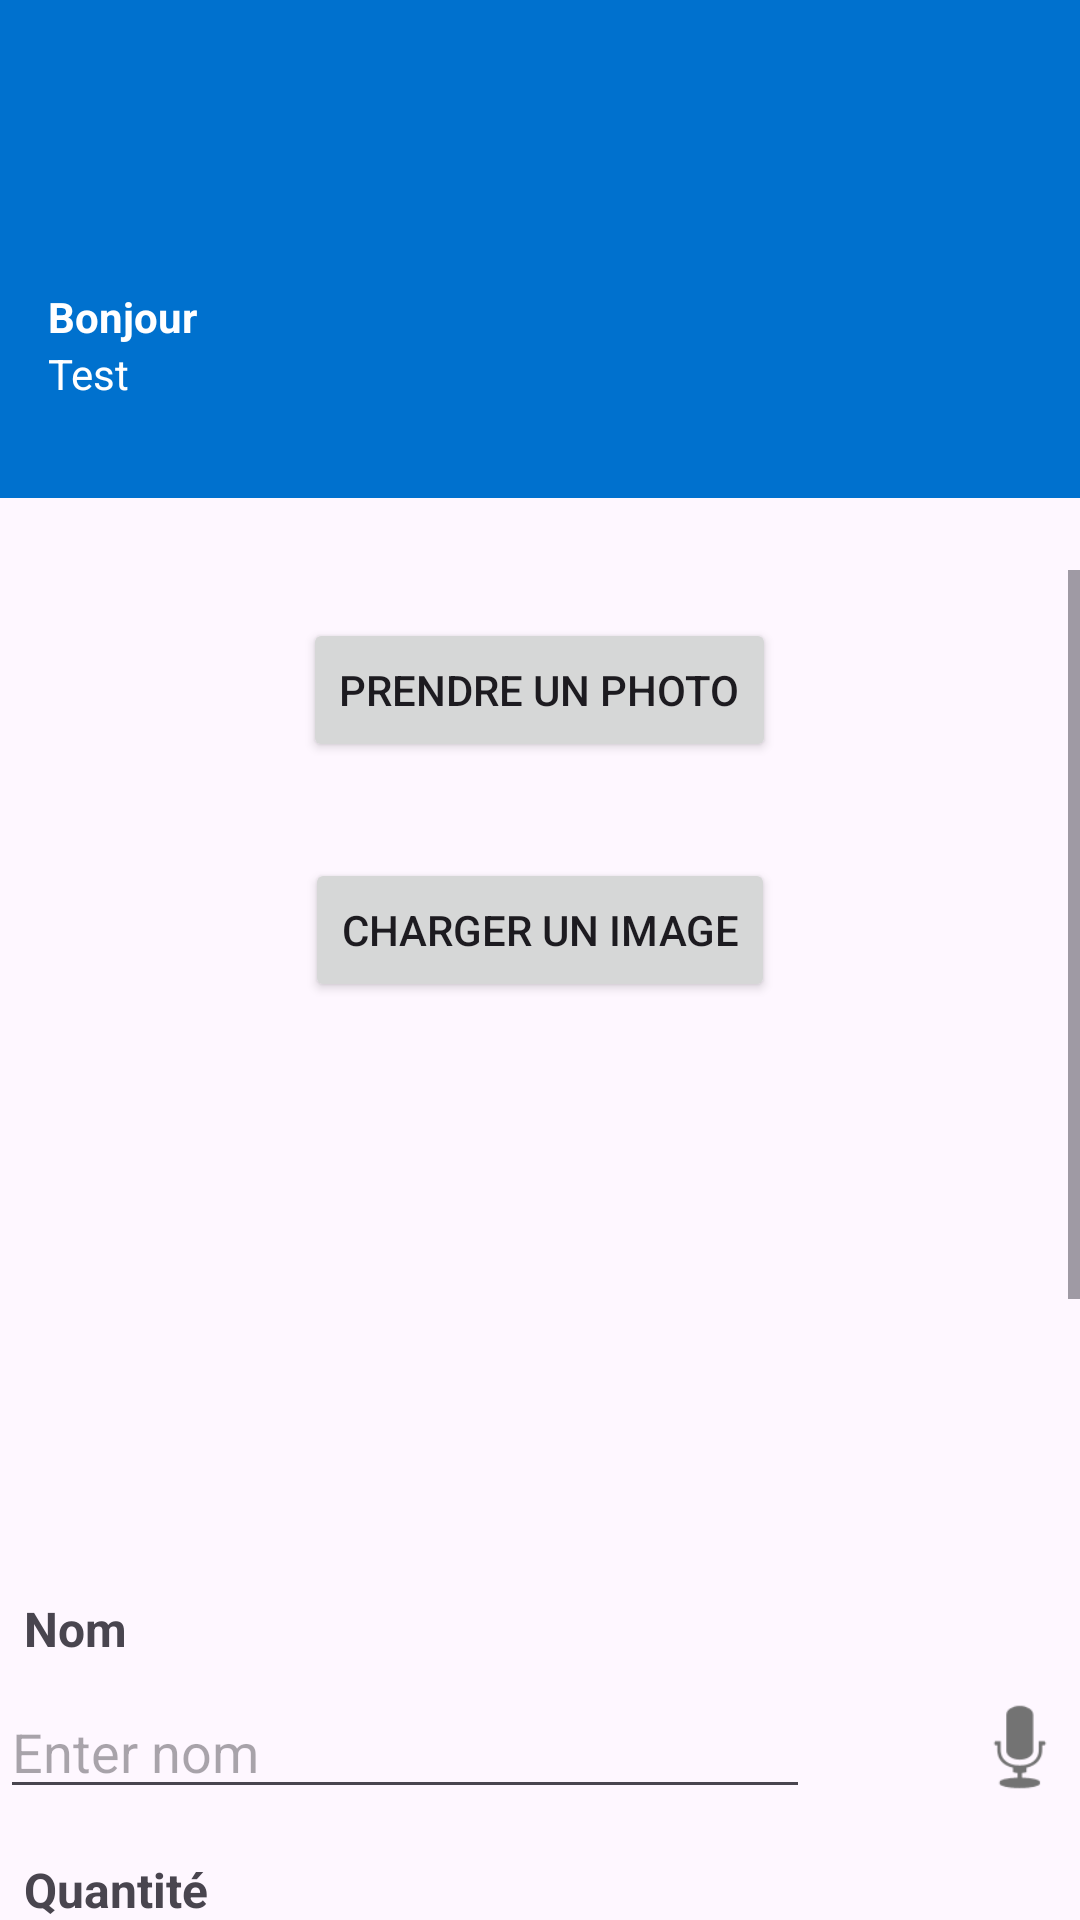

Icons on this 1080w x 1920h Android screen, each with the point to tap as point (x, y):
Parler: point (1020, 1747)
